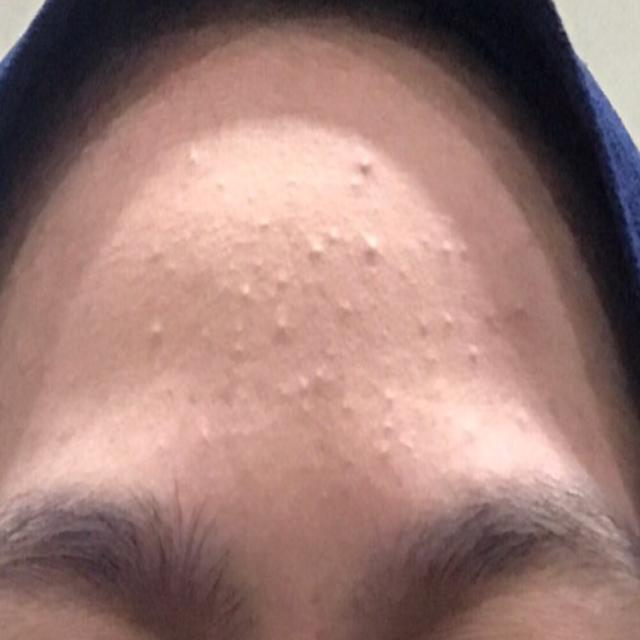fungal: (140, 143, 493, 471)
